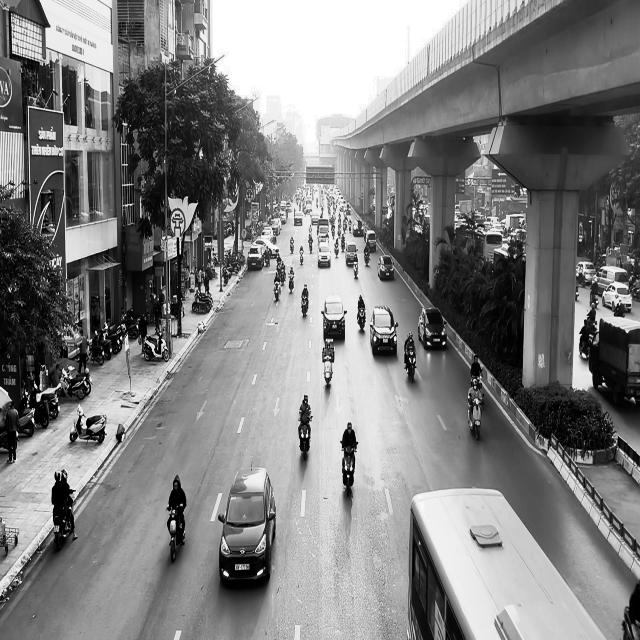bus: (406, 486, 607, 639)
car: (218, 464, 276, 584), (369, 303, 398, 355), (417, 306, 447, 350), (321, 294, 347, 339), (377, 255, 394, 280), (317, 244, 331, 267)
motorbike: (69, 404, 107, 443), (52, 489, 76, 550), (166, 504, 186, 562), (340, 439, 358, 496), (467, 393, 483, 440), (298, 416, 312, 460), (404, 347, 416, 382), (323, 357, 333, 387), (357, 307, 366, 330), (273, 280, 281, 300), (301, 294, 308, 316), (288, 272, 294, 292), (353, 258, 358, 278), (299, 250, 303, 264)
truck: (588, 317, 640, 405)
